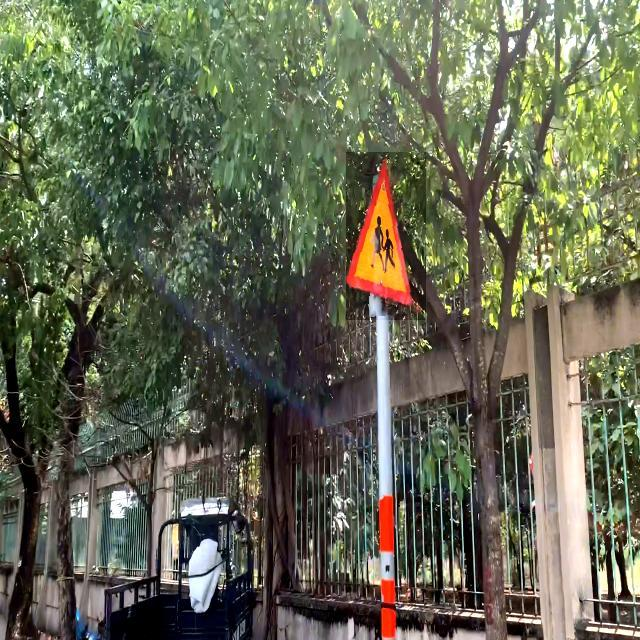W-225: (346, 153, 426, 321)
